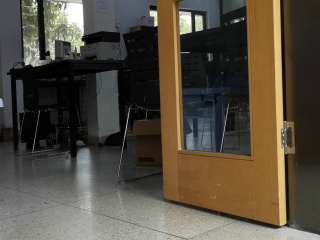room: (6, 1, 315, 235)
